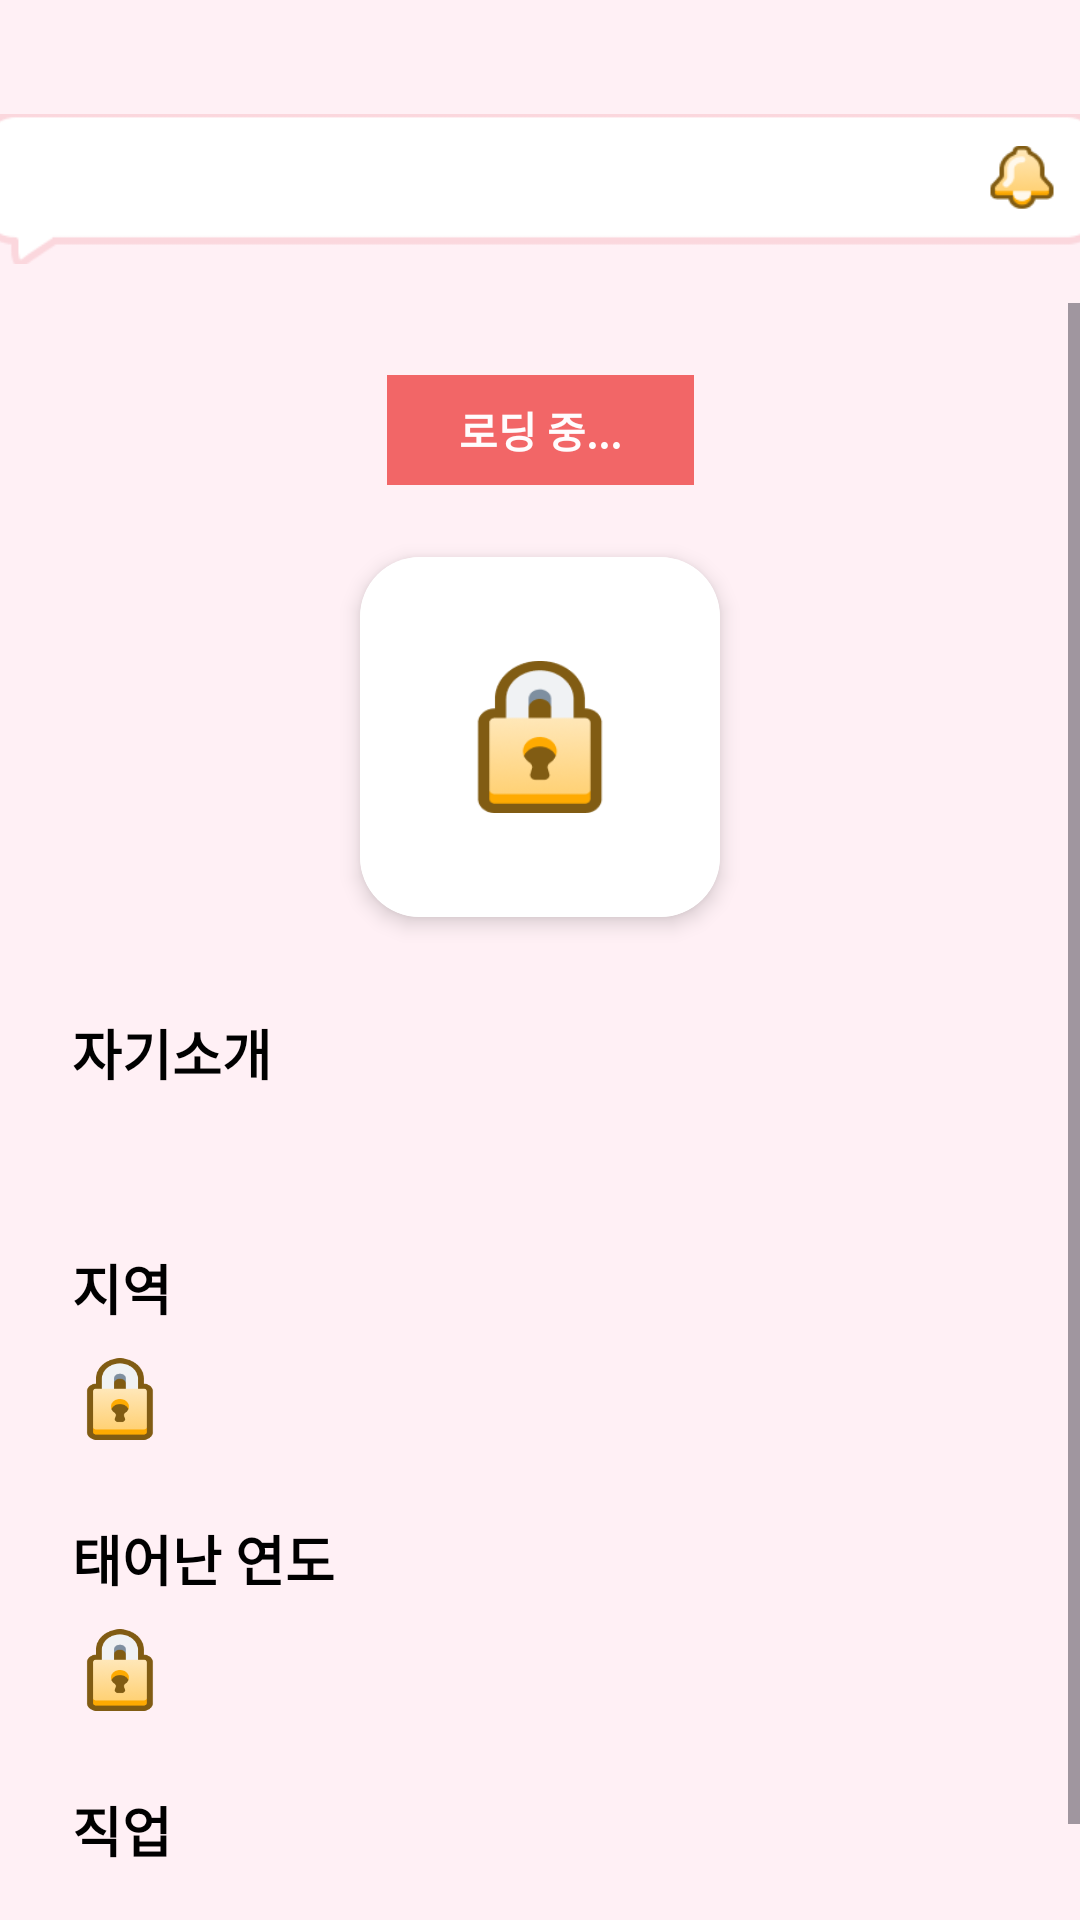

Icon click points for this 1080×1920 phone screenshot, format (x,y):
bell: (1022,177)
lock: (540,737), (120,1399), (120,1670)
